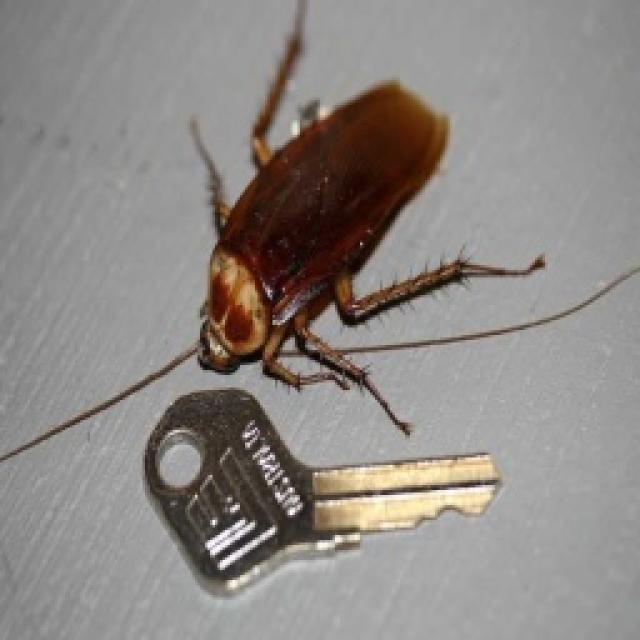cockroach: (156, 39, 504, 418)
